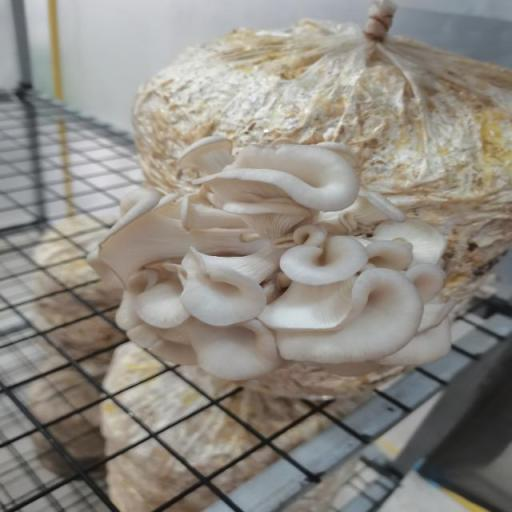White Oyster Mushroom: (82, 128, 473, 407)
